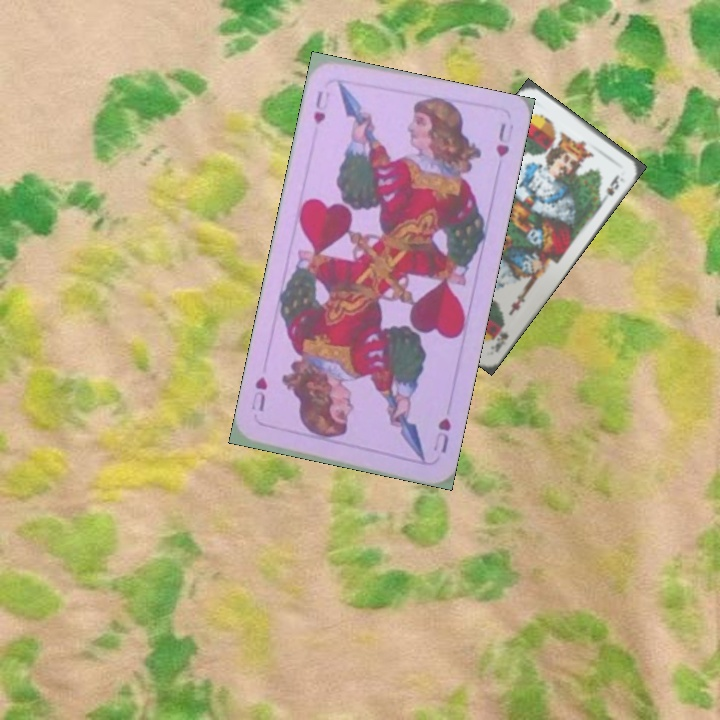HU: (429, 414, 454, 456), (309, 86, 332, 127)
SK: (486, 319, 511, 355)
